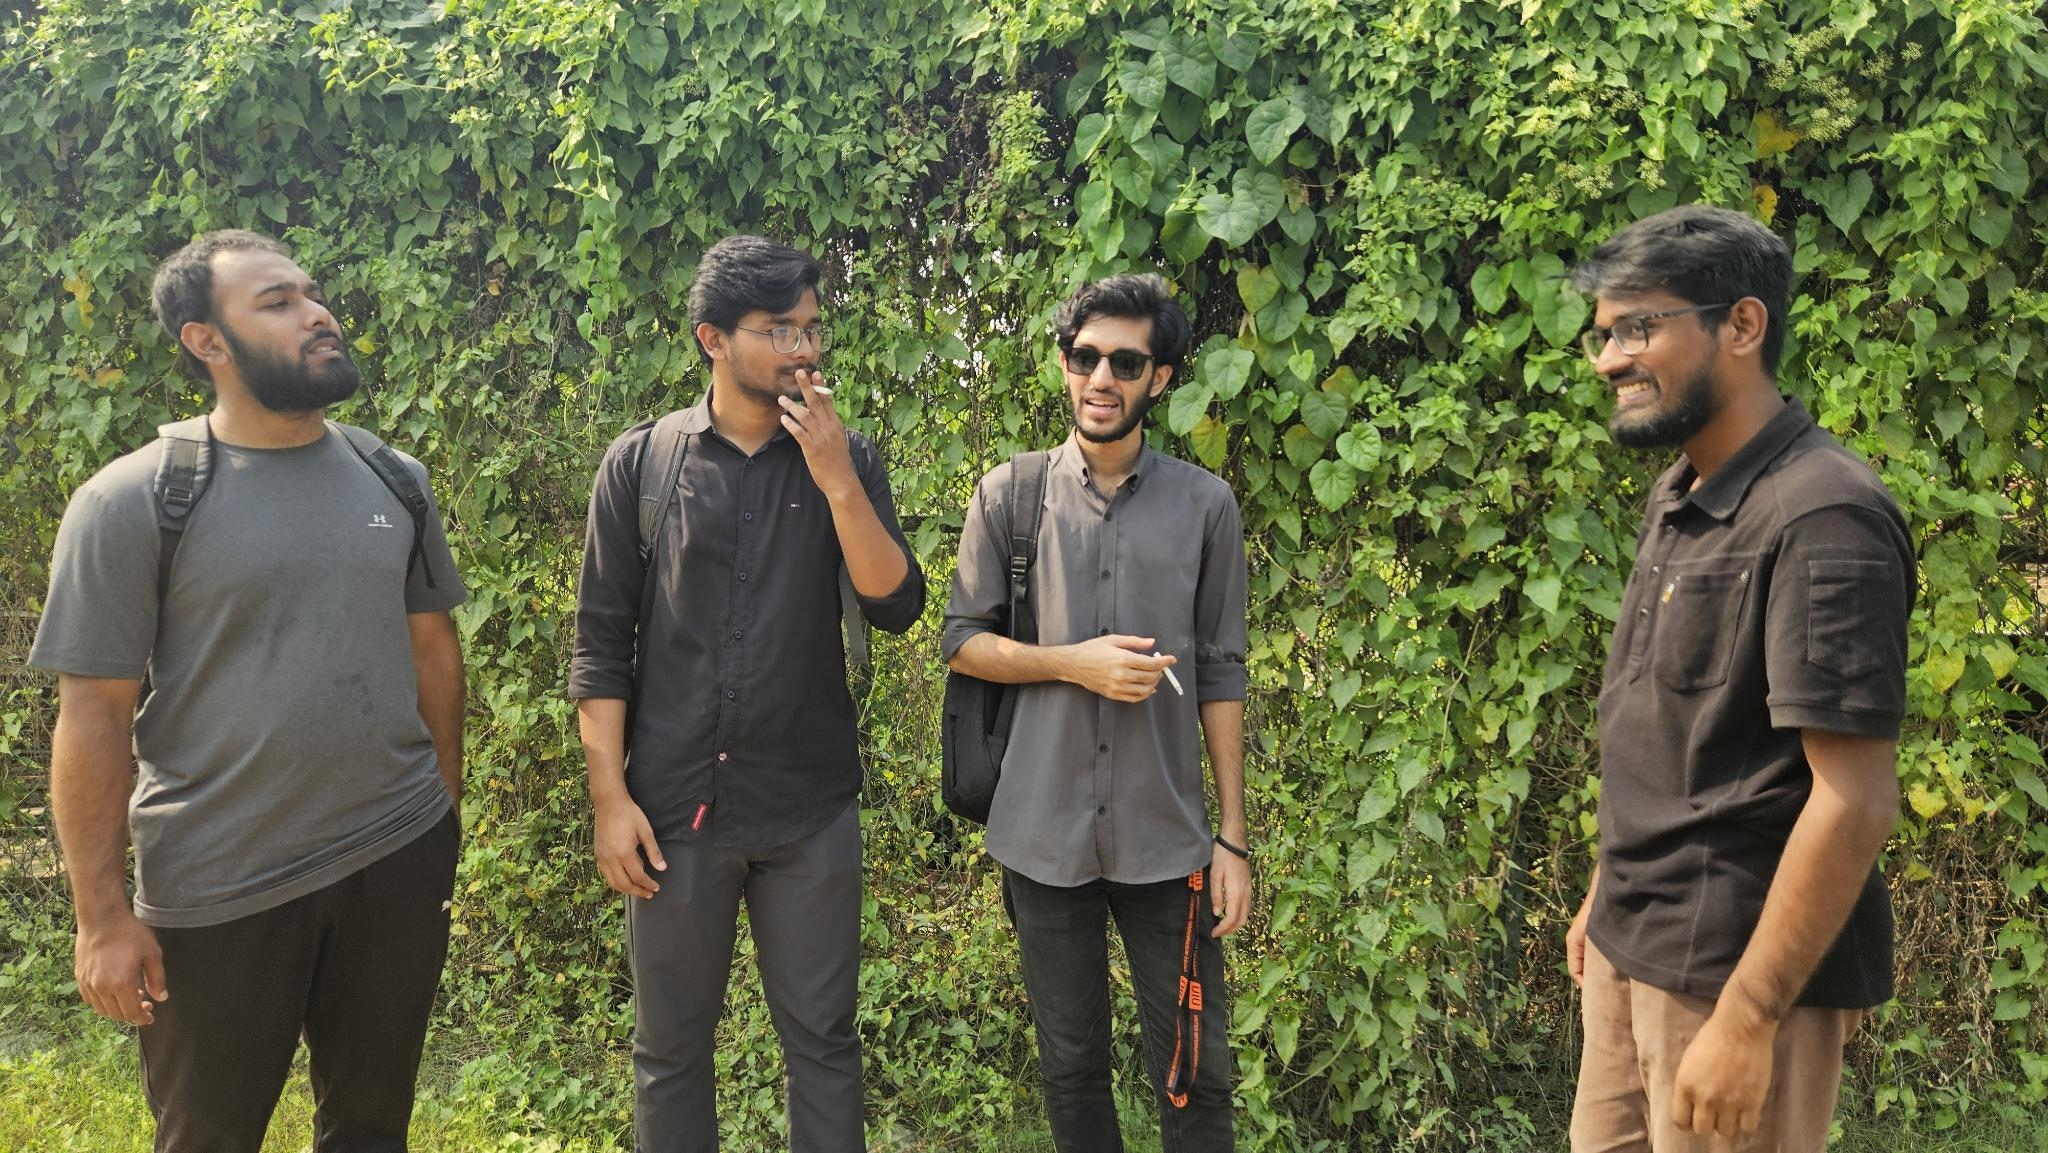cigarette: (1152, 650, 1190, 697), (809, 382, 836, 398)
nonSmoker: (28, 228, 470, 1153), (1566, 205, 1917, 1153)
smoker: (568, 235, 926, 1153), (941, 276, 1255, 1153)
